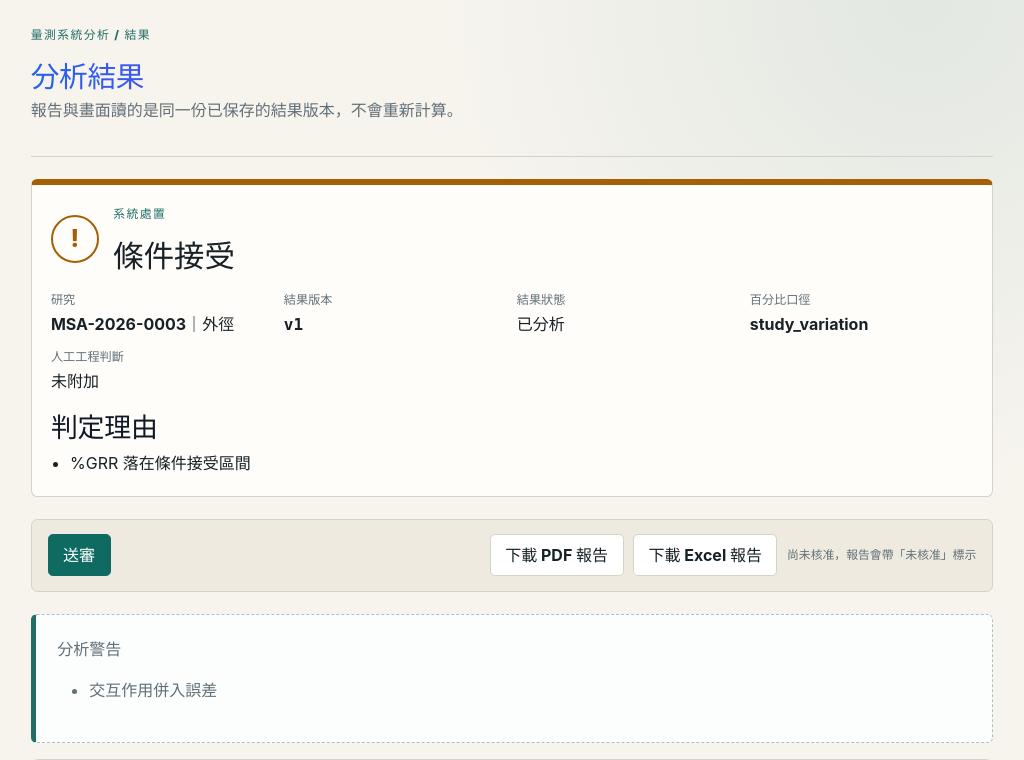
Test: MSA 結果頁：工作流 › 條件接受送審必須填寫措施與期限
The image size is (1024, 760).
Click the button "送審" at [79, 556], box [48,534,110,576]
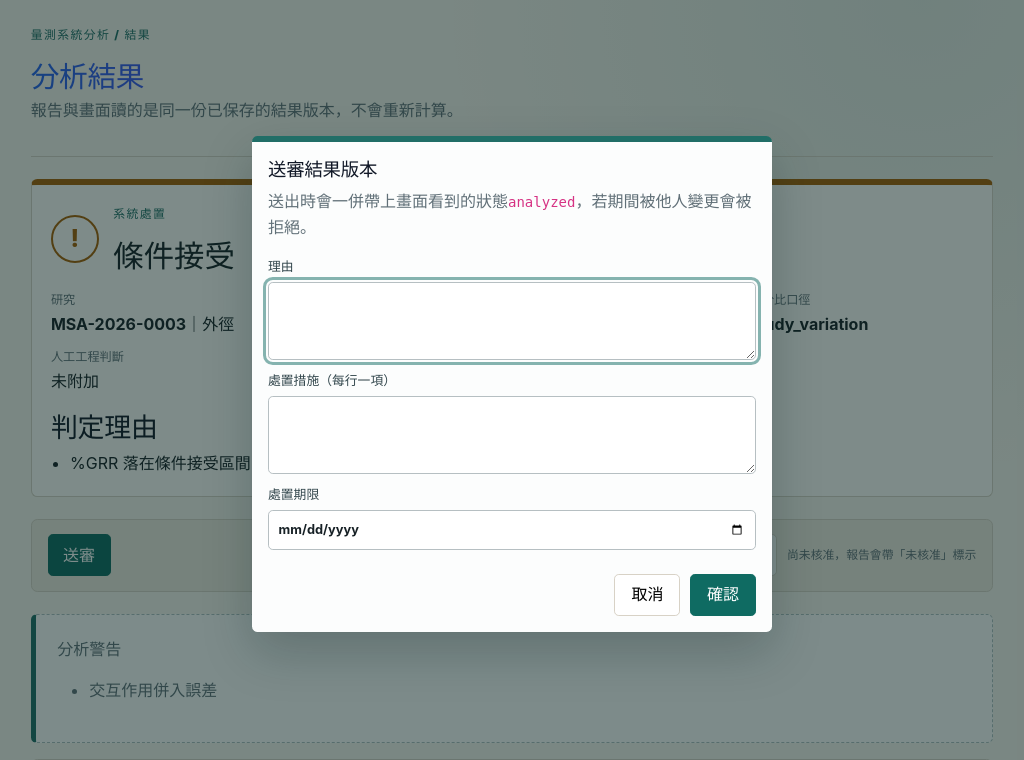
Type "條件接受，已排定改善" into the text box labelled "理由" at [512, 321], box [268,282,756,360]
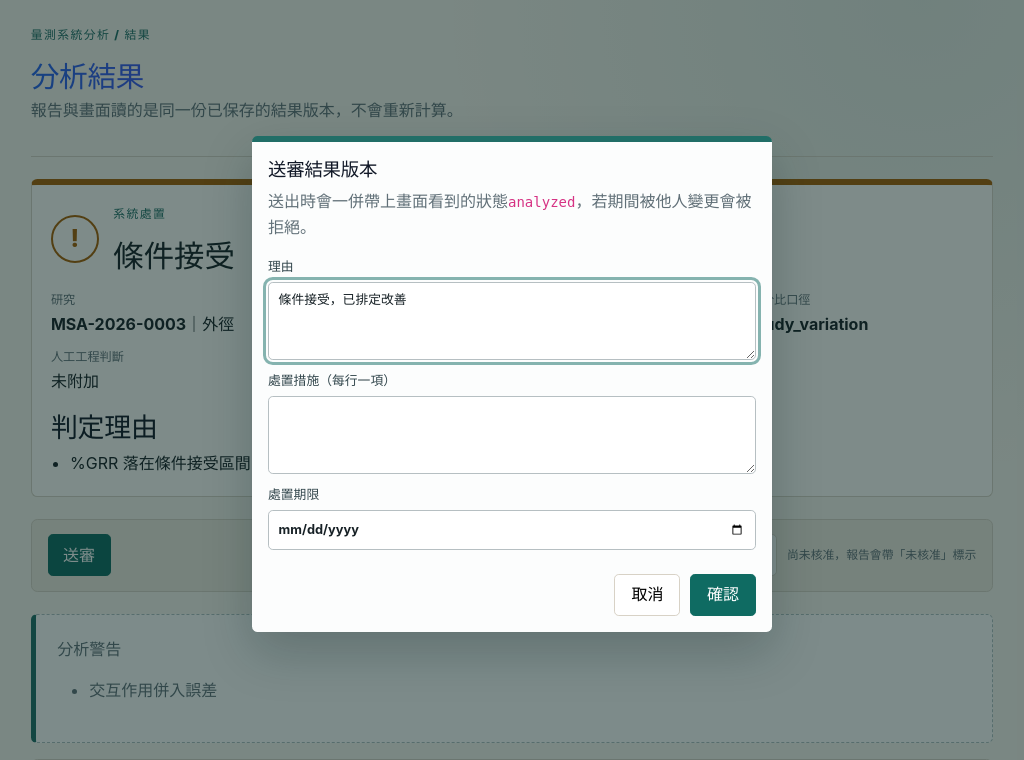
Click the button "確認" at [723, 595], box [690,574,756,616]
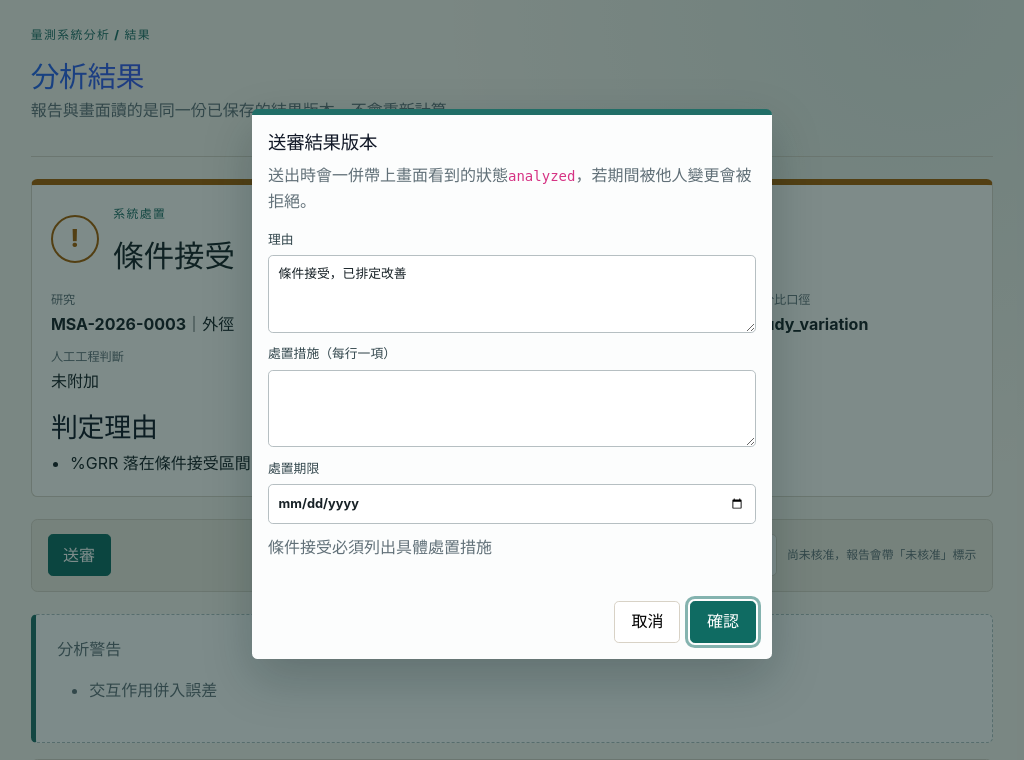
Check: the message shows "必須列出具體處置措施", box [268,537,492,557]
